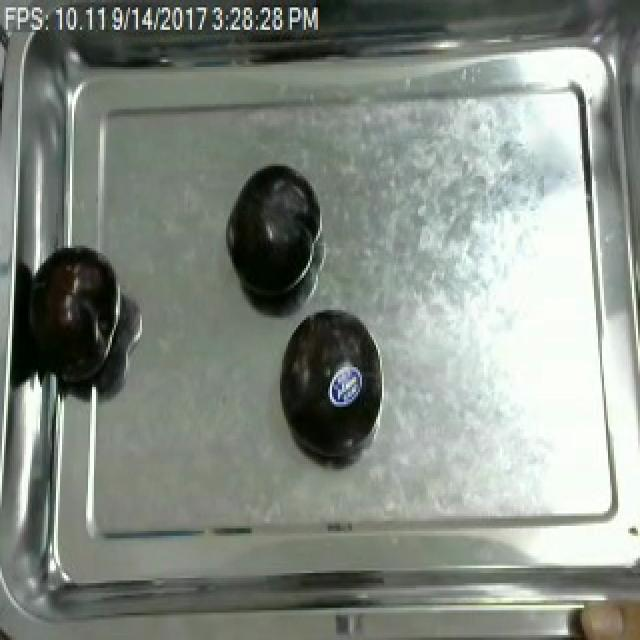Fruit: (272, 300, 390, 464), (220, 158, 320, 302), (36, 243, 126, 392), (568, 588, 640, 640)
